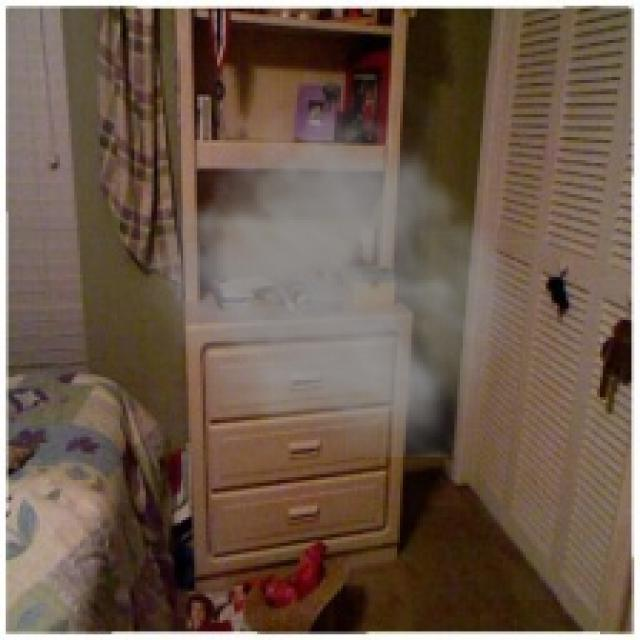smoke: (131, 69, 540, 457)
